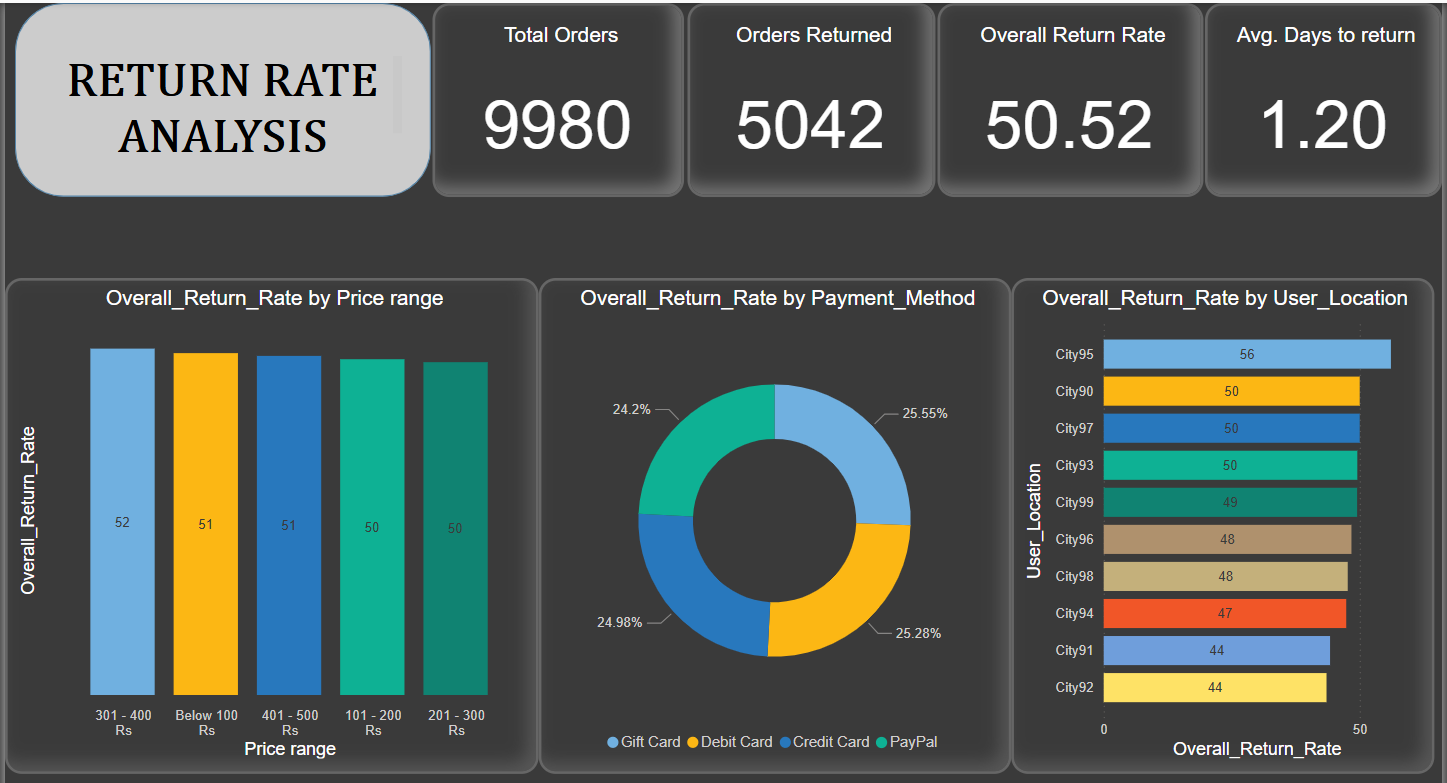

What the dashboard file says about the page in this screenshot:
{"tool":"powerbi","page":{"name":"Page 2","canvas":[1280,720],"ordinal":1},"visuals":[{"type":"barChart","title":"Overall_Return_Rate by User_Location","fields":{"Category":["ecommerce_returns_synthetic_data.User_Location"],"Y":["ecommerce_returns_synthetic_data.Overall_Return_Rate"],"Series":["ecommerce_returns_synthetic_data.User_Location"]},"box":[896.4,244.9,376.4,441.6],"z":0},{"type":"donutChart","fields":{"Category":["ecommerce_returns_synthetic_data.Payment_Method"],"Y":["ecommerce_returns_synthetic_data.Overall_Return_Rate"]},"box":[475.3,244.9,421,441.6],"z":1000},{"type":"columnChart","title":"Overall_Return_Rate by Price range","fields":{"Category":["ecommerce_returns_synthetic_data.Price range"],"Y":["ecommerce_returns_synthetic_data.Overall_Return_Rate"],"Series":["ecommerce_returns_synthetic_data.Price range"]},"box":[0,244.9,475.3,441.6],"z":2000},{"type":"shape","title":"R","box":[8.4,0,370.4,172.5],"z":7000},{"type":"textbox","box":[36.2,31.4,322.1,109.8],"z":8000},{"type":"card","title":"Total Orders","fields":{"Values":["CountNonNull(ecommerce_returns_synthetic_data.Order_ID)"]},"box":[381.2,0,224.4,172.5],"z":8001},{"type":"card","title":"Orders Returned","fields":{"Values":["ecommerce_returns_synthetic_data.Return_count"]},"box":[608,0,220.8,172.5],"z":8002},{"type":"card","title":"Overall Return Rate","fields":{"Values":["ecommerce_returns_synthetic_data.Return Rate"]},"box":[830,0,236.5,172.5],"z":8003},{"type":"card","title":"Avg. Days to return","fields":{"Values":["ecommerce_returns_synthetic_data.Avg_days"]},"box":[1068.9,0,211.1,172.5],"z":8004}]}

Visuals, with their boxes on the page's 1280x720 design canvas (x1, y1, x2, y2). These are canvas units, not pixel positions in the 1447x783 screenshot, which may show the page scaled, cropped or inside an application window:
"Overall_Return_Rate by User_Location" barChart: 896/245/1273/686
donutChart - ecommerce_returns_synthetic_data.Payment_Method x ecommerce_returns_synthetic_data.Overall_Return_Rate: 475/245/896/686
"Overall_Return_Rate by Price range" columnChart: 0/245/475/686
"R" shape: 8/0/379/172
textbox: 36/31/358/141
"Total Orders" card: 381/0/606/172
"Orders Returned" card: 608/0/829/172
"Overall Return Rate" card: 830/0/1066/172
"Avg. Days to return" card: 1069/0/1280/172
